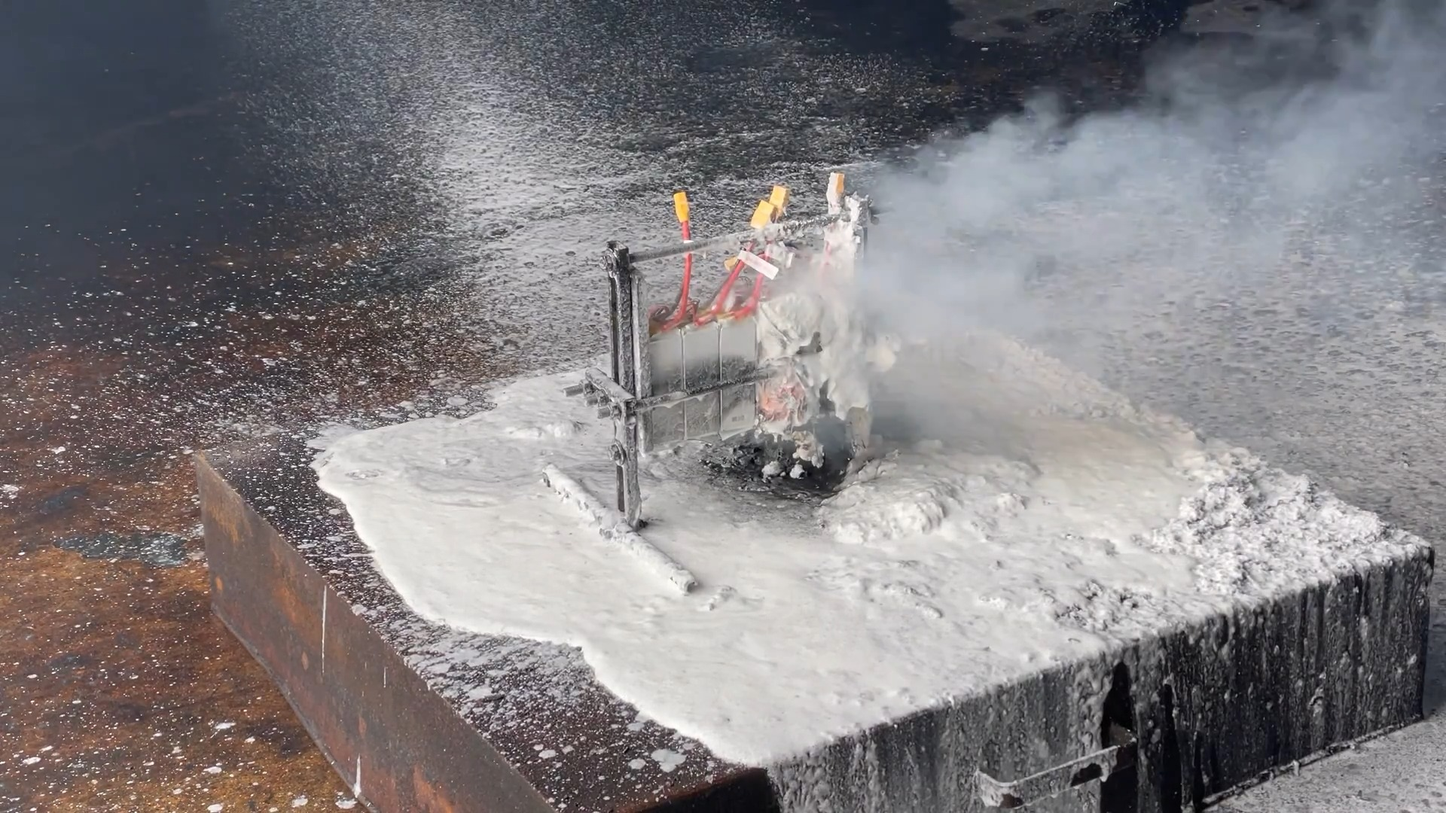smoke: (835, 6, 1445, 384)
